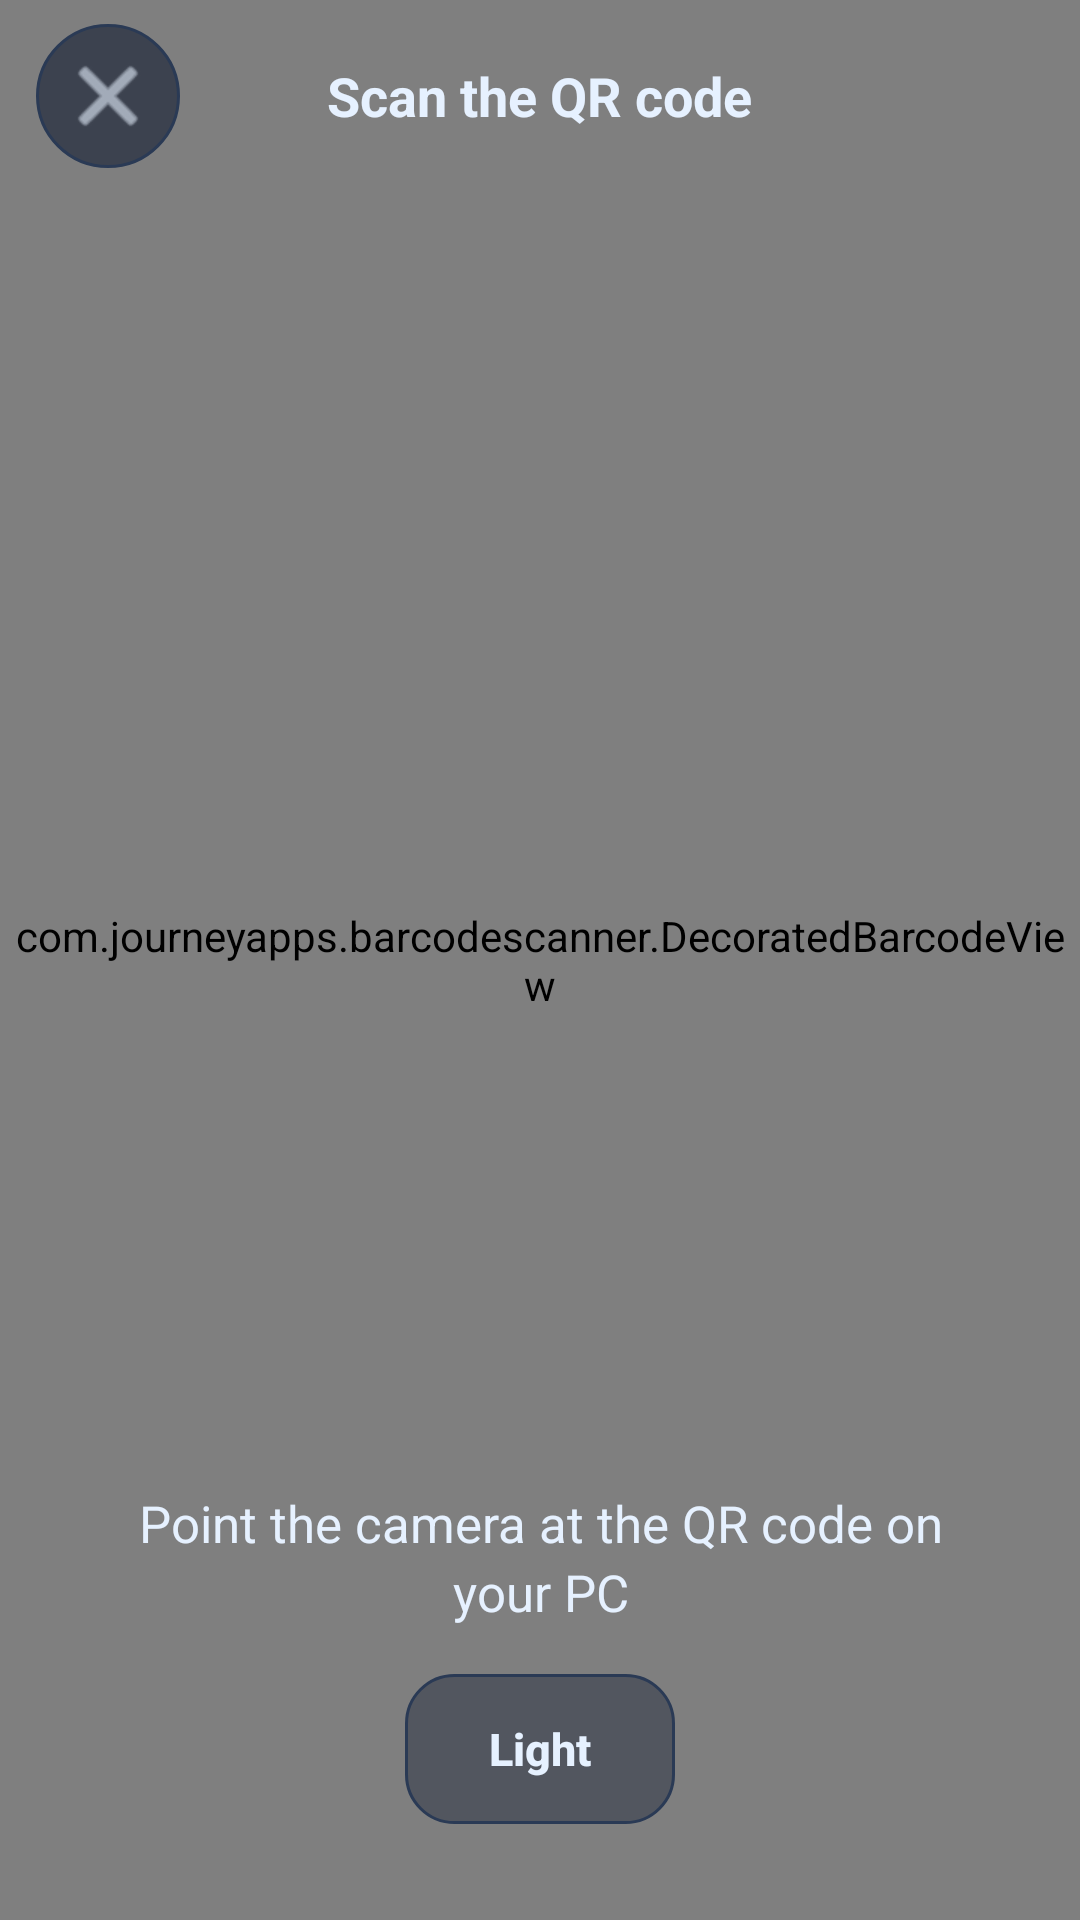

Where to tap for icons on this 1080*1920 app screen, as (x,y):
close clear cancel: (108,96)
